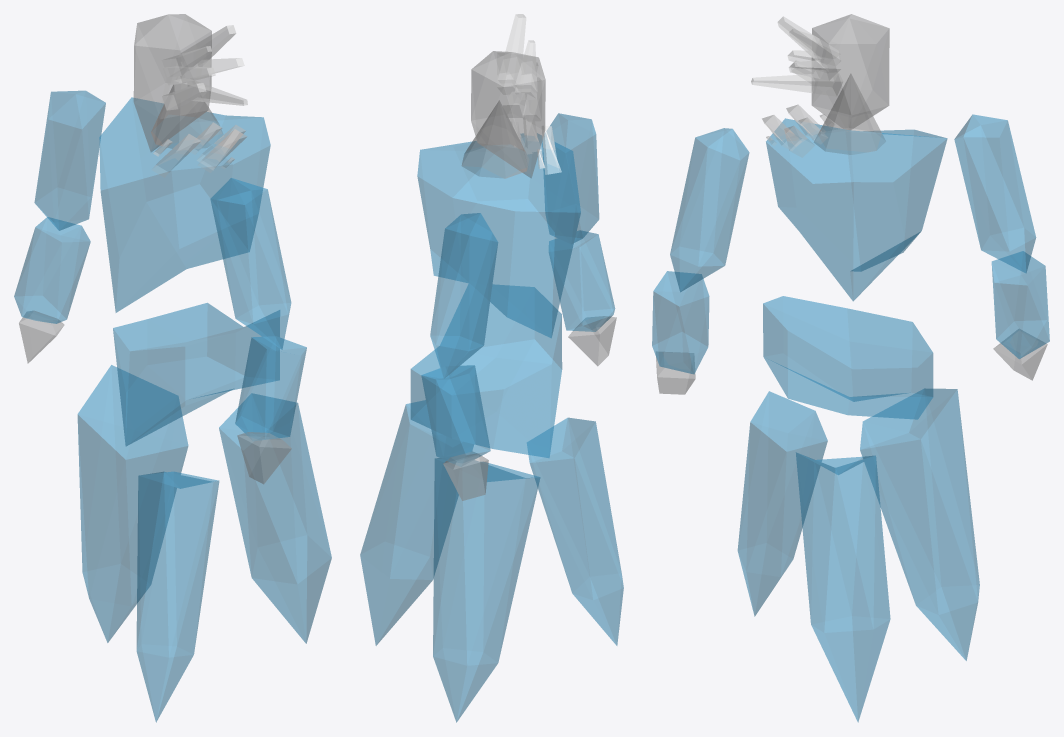
The model's file is ghostIdle31.obj.
The picture shows the model from 3 angles, left to right: view 1: azimuth 30°, elevation 25°; view 2: azimuth 150°, elevation 25°; view 3: azimuth 270°, elevation 25°; orthographic projection. The views are drawn at different scales.
Parts seen in each view (by area): view 1: Cube.001_Cube.001, Icosphere.005, Icosphere.004, Cube_Cube.002, Icosphere.003, Icosphere.005_Icosphere.001, Icosphere.003_Icosphere.001, Icosphere.007_Icosphere.001, Icosphere.008_Icosphere.001, Icosphere.006_Icosphere.001, Cone_Cone.002, Cube.002_Cube.001 (+8 smaller); view 2: Cube.001_Cube.001, Cube_Cube.002, Icosphere.005, Icosphere.004, Icosphere.003, Icosphere.007_Icosphere.001, Icosphere.003_Icosphere.001, Icosphere.005_Icosphere.001, Icosphere.008_Icosphere.001, Icosphere.006_Icosphere.001, Cone_Cone.002, Cube.003_Cube.001 (+5 smaller); view 3: Cube.001_Cube.001, Icosphere.005, Icosphere.004, Cube_Cube.002, Icosphere.003, Icosphere.005_Icosphere.001, Icosphere.007_Icosphere.001, Icosphere.003_Icosphere.001, Icosphere.006_Icosphere.001, Icosphere.008_Icosphere.001, Cone_Cone.002, Cube.003_Cube.001 (+4 smaller).
Part boxes in pixels (x1,y1,x2,y2): Cube.001_Cube.001: [99, 97, 270, 312]; Icosphere.005: [77, 365, 188, 642]; Icosphere.004: [219, 393, 331, 643]; Cube_Cube.002: [113, 303, 279, 446]; Icosphere.003: [136, 471, 219, 722]; Icosphere.005_Icosphere.001: [210, 178, 291, 349]; Icosphere.003_Icosphere.001: [133, 14, 211, 151]; Icosphere.007_Icosphere.001: [34, 90, 105, 230]; Icosphere.008_Icosphere.001: [14, 217, 90, 323]; Icosphere.006_Icosphere.001: [235, 336, 306, 440]; Cone_Cone.002: [151, 85, 223, 148]; Cube.002_Cube.001: [237, 432, 291, 484]; Cube.001_Cube.001: [417, 133, 580, 338]; Cube_Cube.002: [410, 284, 562, 457]; Icosphere.005: [433, 457, 540, 722]; Icosphere.004: [360, 400, 473, 645]; Icosphere.003: [527, 417, 623, 645]; Icosphere.007_Icosphere.001: [430, 213, 498, 378]; Icosphere.003_Icosphere.001: [471, 51, 545, 178]; Icosphere.005_Icosphere.001: [542, 113, 599, 243]; Icosphere.008_Icosphere.001: [421, 365, 490, 466]; Icosphere.006_Icosphere.001: [549, 230, 615, 331]; Cone_Cone.002: [461, 100, 526, 178]; Cube.003_Cube.001: [443, 451, 488, 500]; Cube.001_Cube.001: [766, 118, 947, 301]; Icosphere.005: [860, 388, 979, 660]; Icosphere.004: [796, 452, 890, 722]; Cube_Cube.002: [763, 296, 933, 419]; Icosphere.003: [737, 391, 827, 616]; Icosphere.005_Icosphere.001: [670, 128, 749, 292]; Icosphere.007_Icosphere.001: [954, 114, 1036, 273]; Icosphere.003_Icosphere.001: [811, 14, 889, 129]; Icosphere.006_Icosphere.001: [652, 271, 709, 374]; Icosphere.008_Icosphere.001: [991, 251, 1049, 358]; Cone_Cone.002: [814, 74, 885, 154]; Cube.003_Cube.001: [993, 329, 1047, 380].
Size of the model in its own units: 16.84 by 48.47 by 26.62.
